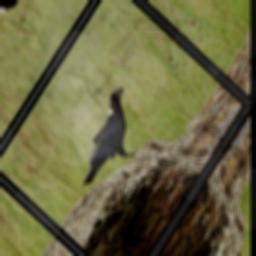Crow: (63, 81, 158, 204)
